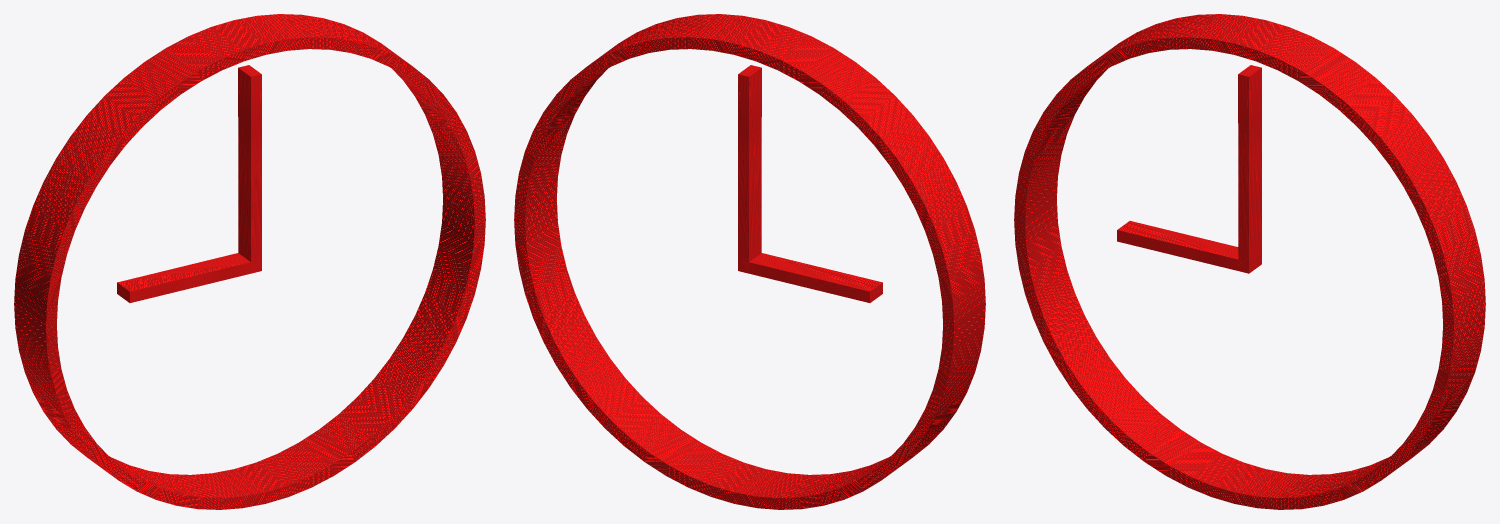
The model's file is TimeScalePowerup.fbx.
The picture shows the model from 3 angles, left to right: view 1: azimuth 30°, elevation 25°; view 2: azimuth 150°, elevation 25°; view 3: azimuth 330°, elevation 25°; orthographic projection.
Parts seen in each view (by area): view 1: pCube4; view 2: pCube4; view 3: pCube4.
Boxes of the visible parts, <box> form: pCube4: <box>14,14,485,509</box>; pCube4: <box>514,14,985,509</box>; pCube4: <box>1014,14,1485,509</box>.
Size of the model in its own units: 0.7618 by 0.7618 by 0.0952.
1 material, 1 textured.
